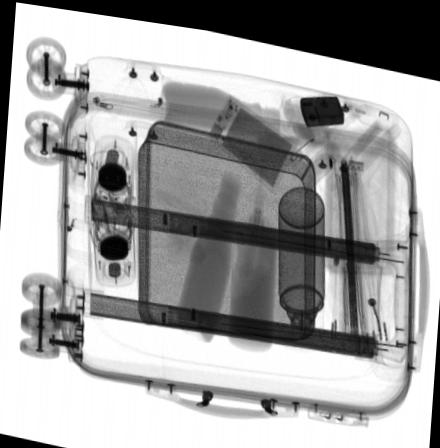Lighter: (299, 84, 344, 117)
Powerbank: (206, 84, 295, 185)
Sprayer: (276, 175, 324, 331)
